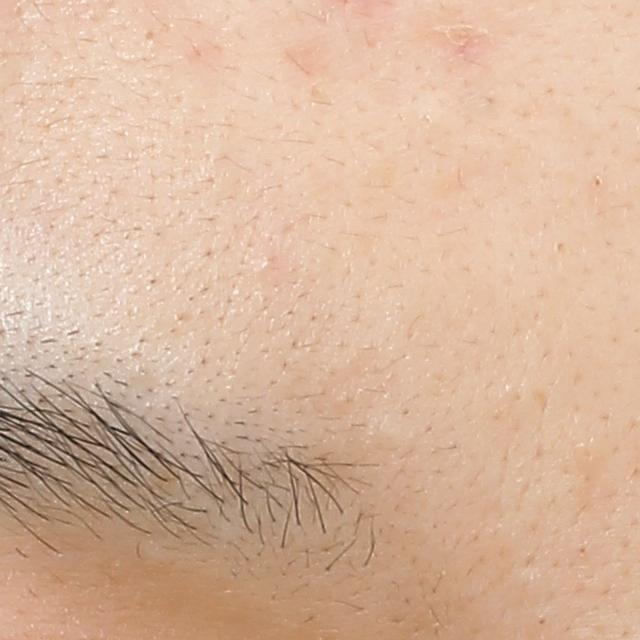comedo: (138, 24, 162, 46), (531, 608, 551, 629), (258, 254, 278, 272), (590, 173, 606, 190)
